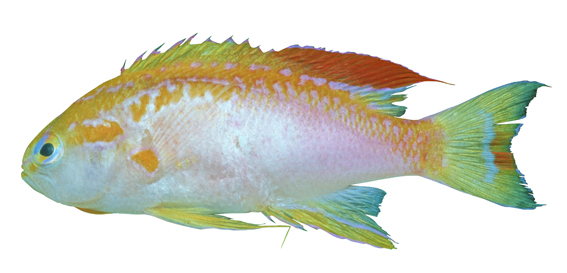fish: (19, 33, 552, 250)
